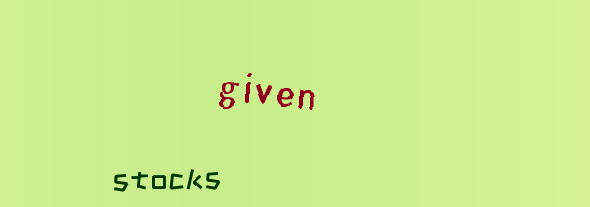h_text: (26, 41, 509, 139), (26, 160, 308, 194)
